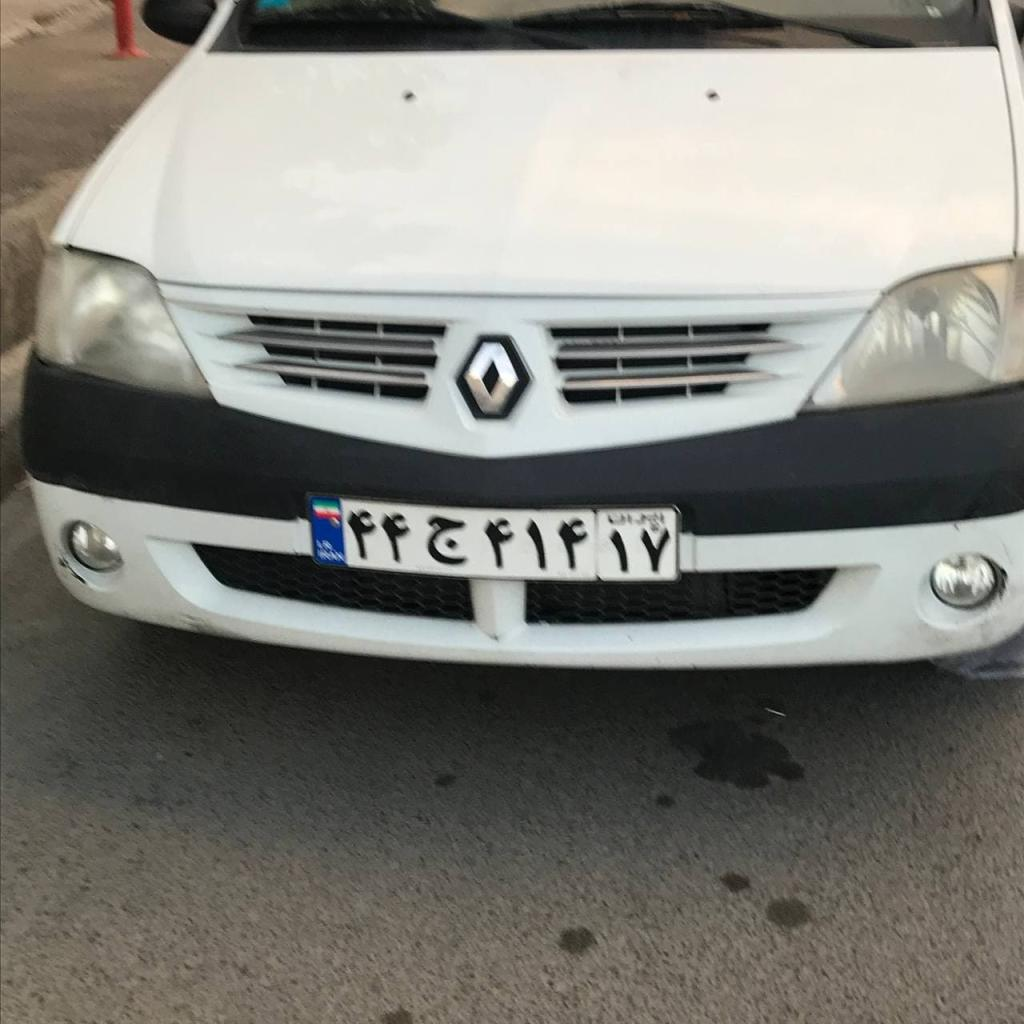Plates: (309, 498, 676, 579)
